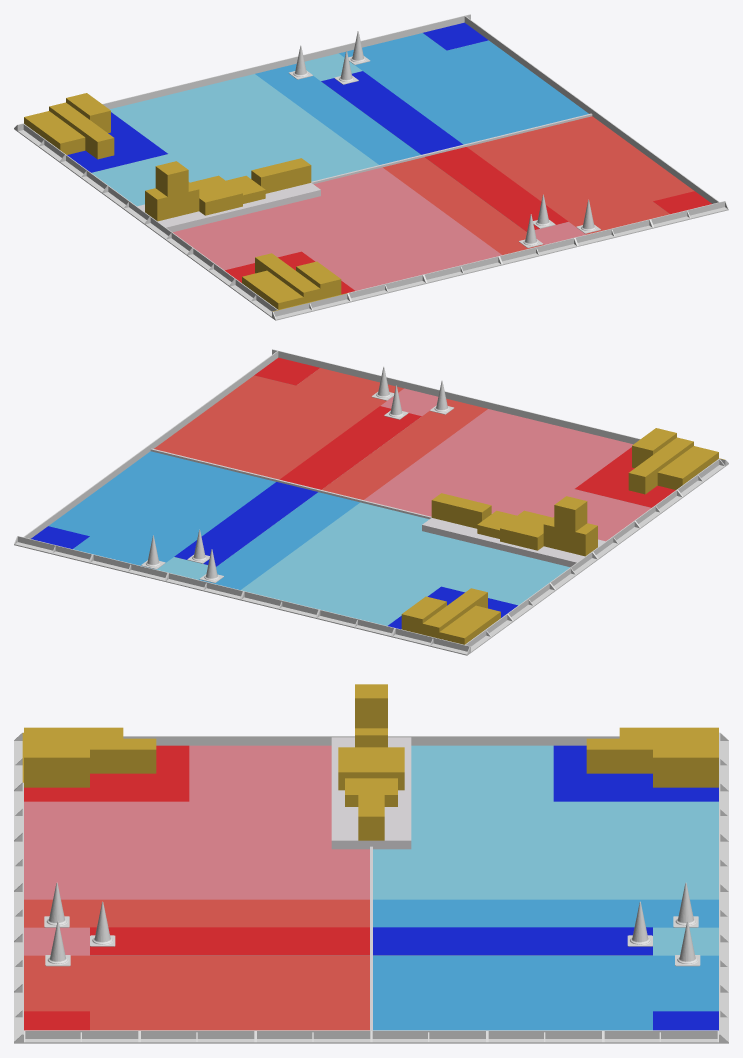
File: field2025.glb
3 views of the same model, one above another, from view 1: azimuth 30°, elevation 25°; view 2: azimuth 150°, elevation 25°; view 3: azimuth 270°, elevation 25° (orthographic). The views are drawn at different scales.
Visible parts, largest first — view 1: field2025.007, field2025.015, field2025.009, field2025.016, field2025, field2025.002, field2025.013, field2025.005, field2025.010, field2025.001, field2025.012, field2025.011 (+6 smaller); view 2: field2025.016, field2025.009, field2025.015, field2025.007, field2025, field2025.002, field2025.005, field2025.013, field2025.001, field2025.010, field2025.004, field2025.011 (+6 smaller); view 3: field2025.007, field2025.016, field2025.009, field2025.015, field2025, field2025.005, field2025.013, field2025.001, field2025.010, field2025.002, field2025.004, field2025.012 (+5 smaller).
Part boxes in pixels (bbox=[...]): field2025.007: bbox=[173, 167, 501, 290]; field2025.015: bbox=[255, 33, 588, 164]; field2025.009: bbox=[383, 116, 694, 254]; field2025.016: bbox=[92, 74, 378, 206]; field2025: bbox=[14, 14, 728, 320]; field2025.002: bbox=[145, 158, 311, 221]; field2025.013: bbox=[321, 71, 462, 154]; field2025.005: bbox=[425, 147, 568, 231]; field2025.010: bbox=[24, 93, 114, 159]; field2025.001: bbox=[242, 253, 347, 311]; field2025.012: bbox=[67, 112, 167, 172]; field2025.011: bbox=[137, 183, 320, 232]; field2025.016: bbox=[241, 502, 569, 625]; field2025.009: bbox=[154, 368, 487, 499]; field2025.015: bbox=[48, 451, 359, 589]; field2025.007: bbox=[364, 409, 650, 541]; field2025: bbox=[14, 349, 728, 655]; field2025.002: bbox=[431, 493, 597, 556]; field2025.005: bbox=[280, 406, 421, 489]; field2025.013: bbox=[174, 482, 317, 566]; field2025.001: bbox=[628, 428, 724, 494]; field2025.010: bbox=[401, 588, 500, 644]; field2025.004: bbox=[575, 447, 675, 507]; field2025.011: bbox=[422, 518, 605, 567]; field2025.007: bbox=[24, 745, 369, 899]; field2025.016: bbox=[373, 745, 718, 899]; field2025.009: bbox=[24, 899, 369, 1030]; field2025.015: bbox=[373, 899, 718, 1030]; field2025: bbox=[14, 732, 728, 1043]; field2025.005: bbox=[90, 927, 369, 955]; field2025.013: bbox=[373, 927, 652, 955]; field2025.001: bbox=[22, 727, 156, 787]; field2025.010: bbox=[586, 727, 718, 787]; field2025.002: bbox=[338, 684, 404, 840]; field2025.004: bbox=[24, 745, 189, 801]; field2025.012: bbox=[553, 745, 718, 801].
Bounding box in the file's own units: 10.8 × 1.14 × 10.8.
